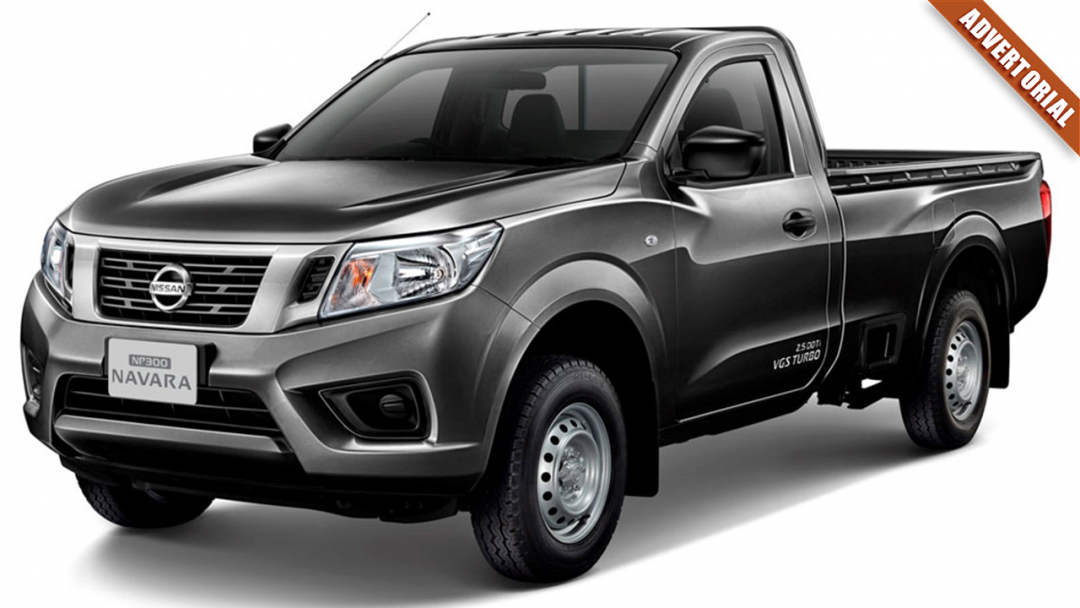pickup: (20, 21, 1054, 581)
